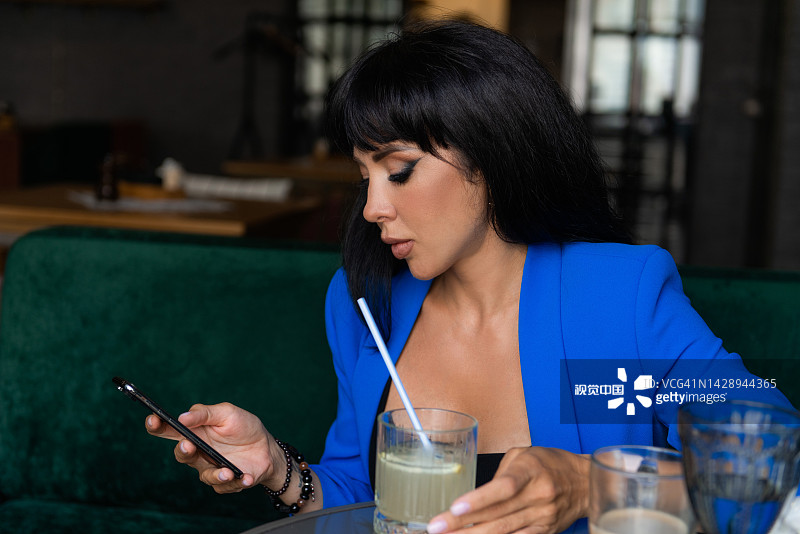no-phone: (399, 430, 625, 534)
reading: (93, 353, 287, 507)
